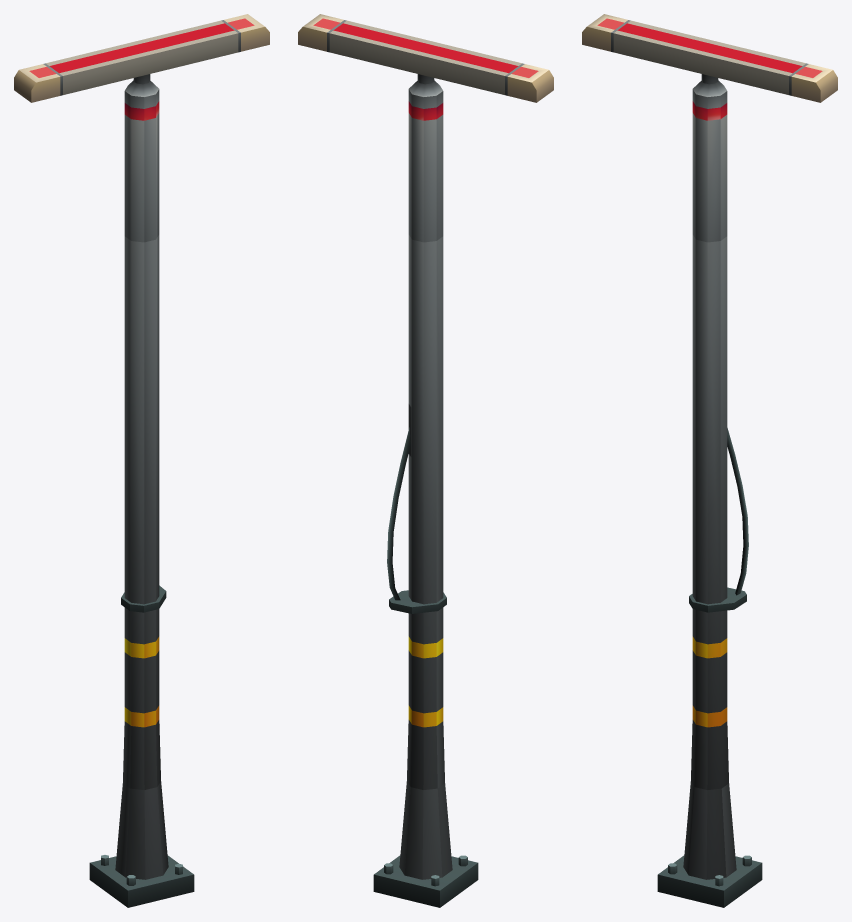
Rendered from Radar_1A.fbx.
The picture shows the model from 3 angles, left to right: view 1: azimuth 30°, elevation 25°; view 2: azimuth 150°, elevation 25°; view 3: azimuth 330°, elevation 25°; orthographic projection.
Parts seen in each view (by area): view 1: Radar_1A, Radar_1A_Dish; view 2: Radar_1A, Radar_1A_Dish; view 3: Radar_1A, Radar_1A_Dish.
Boxes of the visible parts, x1,y1,x2,y2 form: Radar_1A: (89,74,194,907); Radar_1A_Dish: (14,14,269,102); Radar_1A: (373,74,478,907); Radar_1A_Dish: (298,14,553,102); Radar_1A: (657,74,762,907); Radar_1A_Dish: (582,14,837,102).
Size of the model in its own units: 721 by 2420 by 200.
